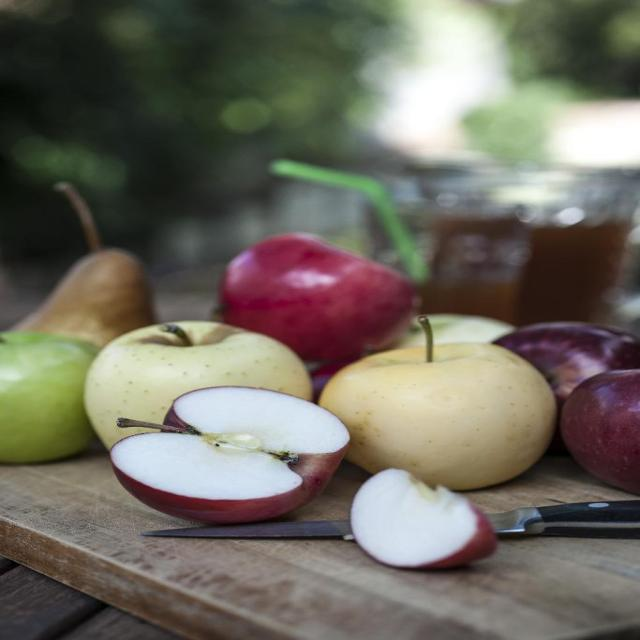Healty Apple: (314, 318, 560, 488), (107, 386, 356, 530), (80, 320, 317, 450), (217, 228, 420, 360), (349, 469, 504, 574), (0, 331, 97, 471), (490, 322, 640, 402), (555, 369, 639, 496), (396, 314, 515, 347)
